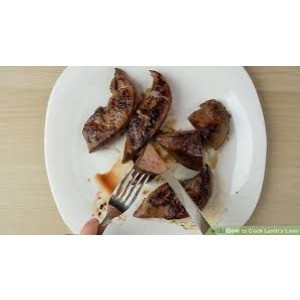liver_brain food: (81, 75, 159, 162), (170, 99, 236, 169)
